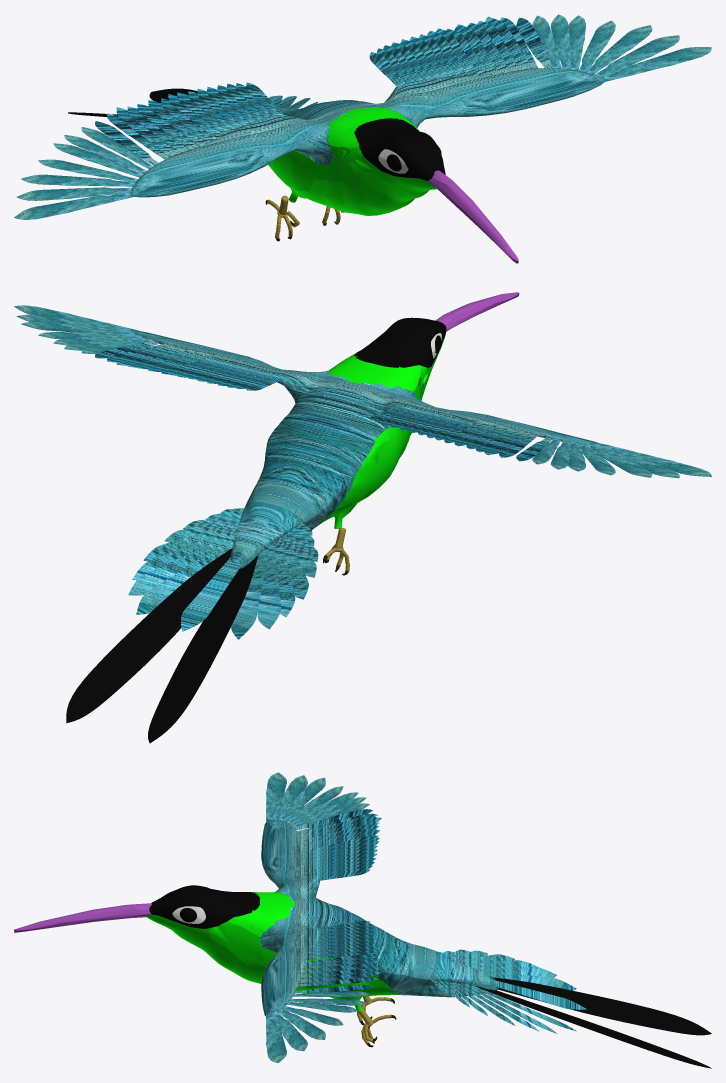
Rendered from hummingbird.obj.
The picture shows the model from 3 angles, top to bottom: view 1: azimuth 30°, elevation 25°; view 2: azimuth 150°, elevation 25°; view 3: azimuth 270°, elevation 25°; orthographic projection. The views are drawn at different scales.
Parts seen in each view (by area): view 1: Body01, Bodu, Chub, Kluv, RFeath01, LFeath01, LFeath02, RFeath02, LFeath03, RFeath03, LFeath04, LFeath06 (+7 smaller); view 2: Body01, Pero01, Pero02, Bodu, Chub, Kluv, RFeath01, LFeath01, LFeath03; view 3: Body01, Bodu, Pero02, Chub, Pero01, Kluv, LFeath01, RFeath01, RFeath03, LFeath02, RFeath02, LFeath03 (+1 smaller).
Boxes of the visible parts, x1,y1,x2,y2 form: Body01: (95, 16, 604, 197); Bodu: (268, 107, 436, 215); Chub: (354, 118, 445, 180); Kluv: (428, 170, 518, 263); RFeath01: (14, 193, 138, 219); LFeath01: (601, 47, 711, 82); LFeath02: (594, 35, 679, 79); RFeath02: (17, 187, 136, 200); LFeath03: (587, 25, 652, 77); RFeath03: (21, 174, 141, 186); LFeath04: (579, 20, 615, 72); LFeath06: (550, 14, 570, 69); Body01: (95, 330, 603, 639); Pero01: (66, 548, 232, 723); Pero02: (148, 555, 258, 743); Bodu: (319, 333, 445, 524); Chub: (354, 317, 446, 367); Kluv: (436, 292, 519, 336); RFeath01: (601, 443, 711, 476); LFeath01: (14, 305, 138, 330); LFeath03: (21, 322, 141, 333); Body01: (260, 809, 586, 1033); Bodu: (146, 892, 402, 996); Pero02: (492, 977, 711, 1035); Chub: (149, 885, 259, 928); Pero01: (476, 986, 711, 1068); Kluv: (14, 903, 151, 932); LFeath01: (266, 1014, 286, 1062); RFeath01: (266, 772, 286, 822); RFeath03: (275, 777, 325, 822); LFeath02: (270, 1013, 307, 1051); RFeath02: (270, 775, 307, 821); LFeath03: (275, 1008, 325, 1039).
Size of the model in its own units: 925 by 238 by 939.
9 materials, 2 textured.
